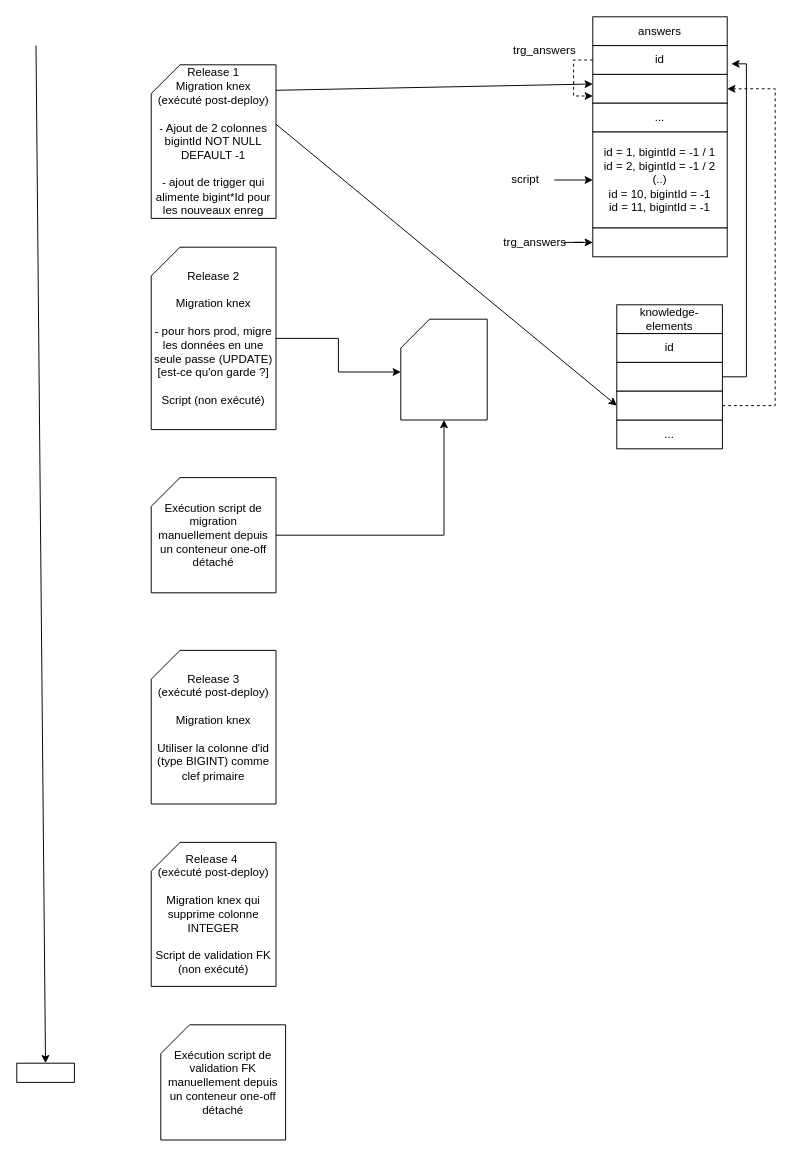
This 800x1157 diagram has some shape labels left out. The box of each missing label's shape, as (x1, y1, x2, y2) in pixels:
answerId: (616, 361, 722, 391)
bigint_answerId: (616, 390, 722, 420)
bigintId: (592, 73, 727, 103)
FIN: (16, 1062, 74, 1082)
id = 100, bigintId = 100: (592, 227, 727, 257)
Script de migration (UPDATE bigint + création index): (400, 318, 487, 420)
